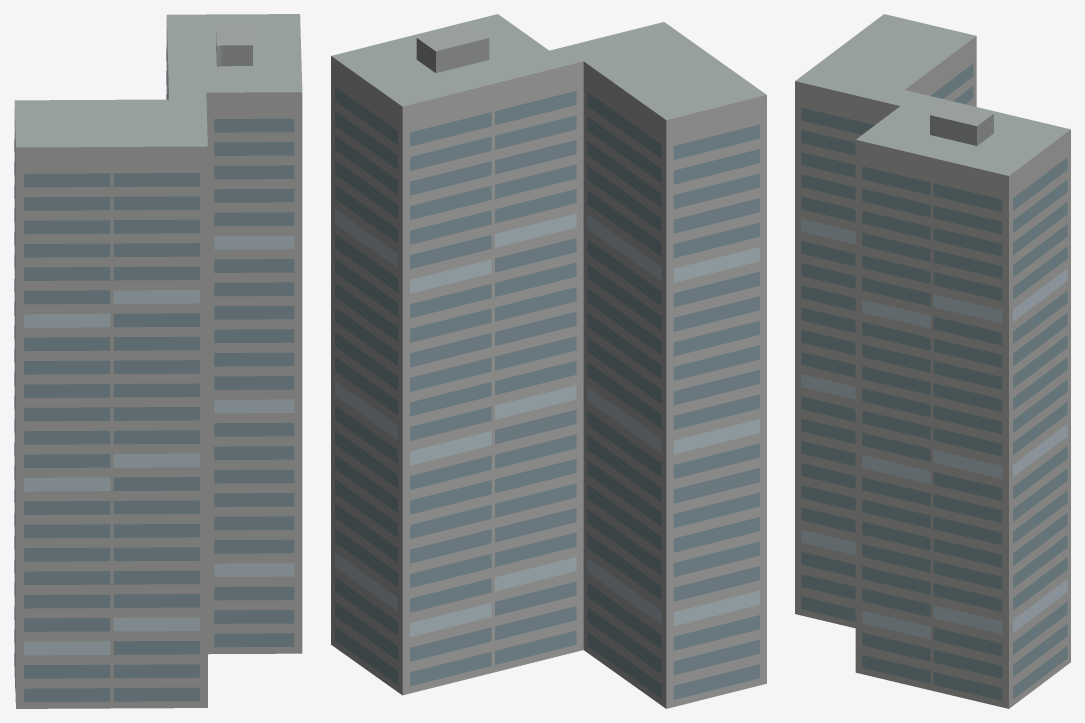
Rendered from fallback-jamsil-parkrio-317.glb.
3 renders of one model, left to right at view 1: azimuth 30°, elevation 25°; view 2: azimuth 150°, elevation 25°; view 3: azimuth 270°, elevation 25°, orthographic. The views are drawn at different scales.
Parts seen in each view (by area): view 1: fallback-jamsil-parkrio-317; view 2: fallback-jamsil-parkrio-317; view 3: fallback-jamsil-parkrio-317.
Boxes of the visible parts, x1,y1,x2,y2 form: fallback-jamsil-parkrio-317: (14, 14, 302, 708); fallback-jamsil-parkrio-317: (331, 14, 766, 708); fallback-jamsil-parkrio-317: (795, 14, 1070, 708).
Bounding box in the file's own units: 42.12 × 67 × 30.3.
